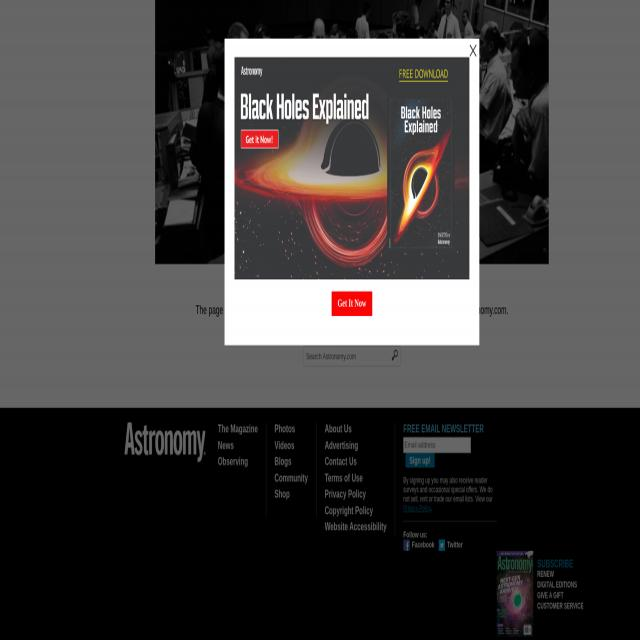button: (494, 551, 533, 639), (124, 423, 206, 463), (332, 292, 372, 316), (240, 128, 278, 148), (405, 453, 435, 468), (467, 38, 479, 59), (403, 539, 410, 551), (439, 539, 445, 551)
field: (303, 347, 400, 366), (403, 437, 471, 452)
